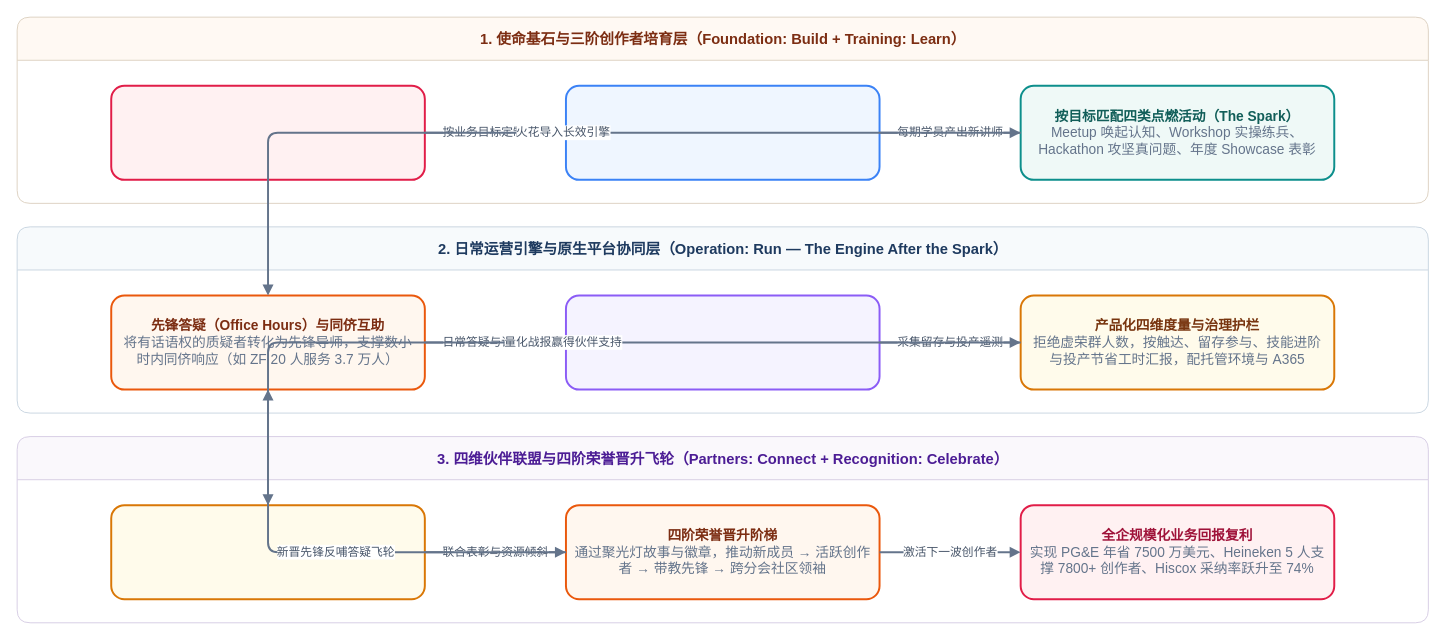
The diagram is 1446 pixels wide and 640 high, and some of its shapes have lost their labels. The centre of each missing label's shape, as x and y in pixels:
"三阶分层培育（Onboarding → Advanced） 安全首建智能体 → 连接业务数据与黑客松 → 复杂场景实战并反哺知识库与导师带教" goes at (722,132).
"业务目标锚定与小核心组 先立可量化目标（如 6 个月百名创作者、年省 500 工时），设 2–3 名负责人与高管赞助人" goes at (267,132).
"四类跨部门伙伴联盟 IT 安全与数据分析把关治理、业务部门锚定场景、M365 先锋促活、高管与 MVP 联合背书" goes at (267,552).
"复用员工原生协作阵地 不强迁外部群组：Viva Engage 开放论坛、SharePoint 知识库、Teams 直播、Forms 脉搏调研" goes at (722,342).
